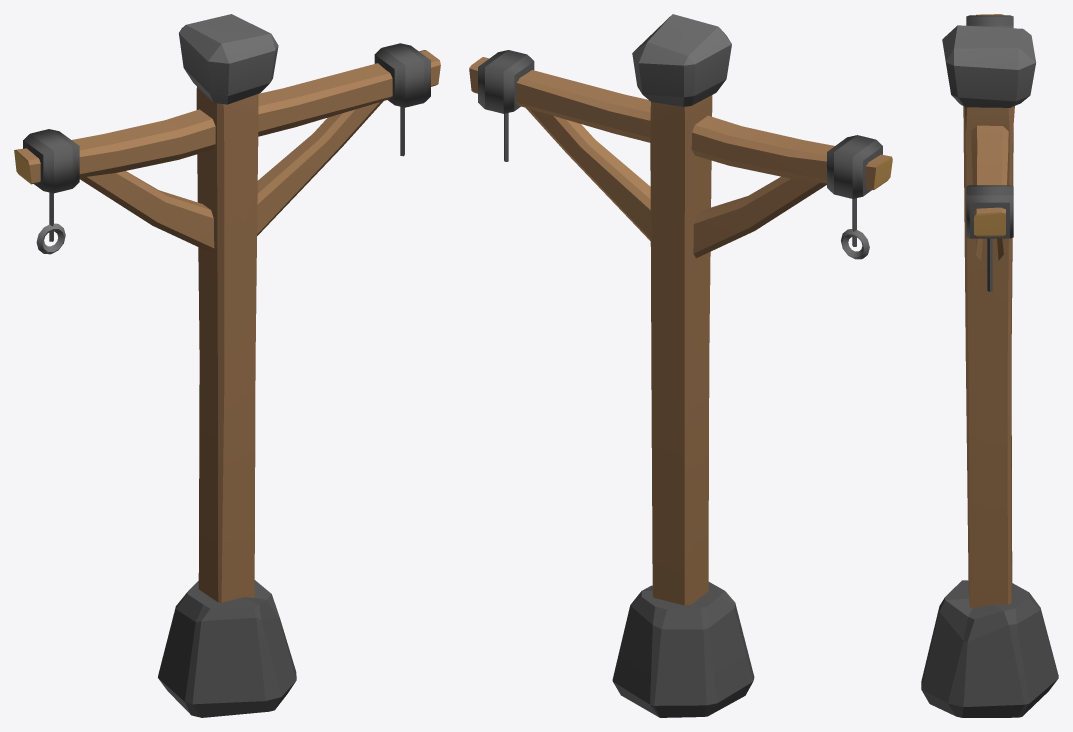
Rendered from Lamp_Road_C.fbx.
3 renders of one model, left to right at view 1: azimuth 30°, elevation 25°; view 2: azimuth 150°, elevation 25°; view 3: azimuth 270°, elevation 25°, orthographic.
Visible parts, largest first — view 1: Lamp_Road_C; view 2: Lamp_Road_C; view 3: Lamp_Road_C.
Part boxes in pixels (left/top/right/bottom): Lamp_Road_C: left=14, top=14, right=440, bottom=717; Lamp_Road_C: left=469, top=14, right=892, bottom=717; Lamp_Road_C: left=921, top=14, right=1058, bottom=717.
Size of the model in its own units: 231 by 358 by 67.55.
